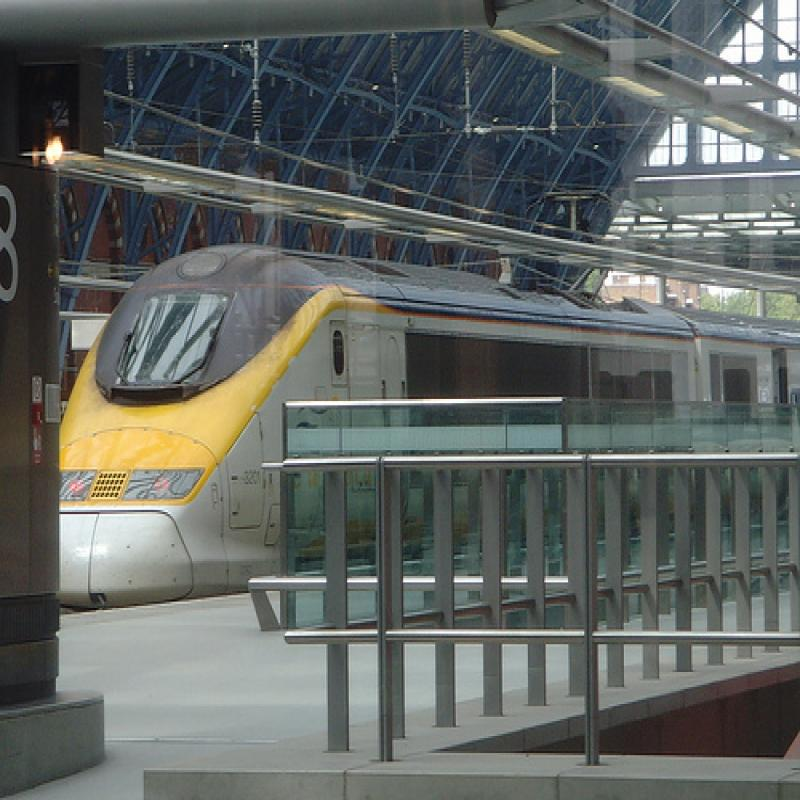train: (66, 257, 800, 609)
